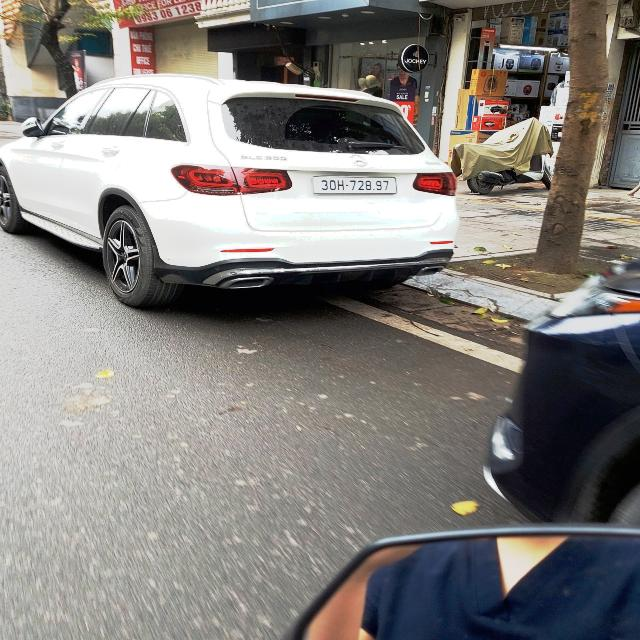license_plate: (309, 175, 401, 198)
